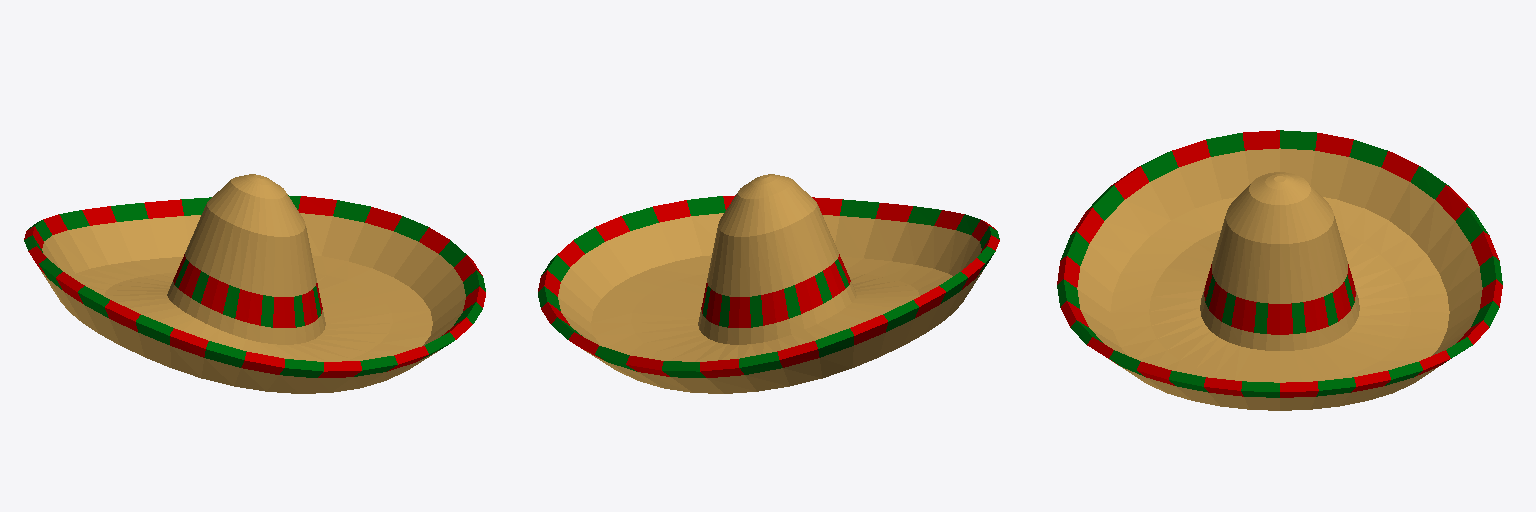
File: lowpolysombrero.obj
The picture shows the model from 3 angles: view 1: azimuth 30°, elevation 25°; view 2: azimuth 150°, elevation 25°; view 3: azimuth 270°, elevation 25°; orthographic projection.
Parts seen in each view (by area): view 1: Disc.1; view 2: Disc.1; view 3: Disc.1.
Boxes of the visible parts, x1,y1,x2,y2 form: Disc.1: [24, 174, 485, 393]; Disc.1: [538, 174, 999, 393]; Disc.1: [1057, 130, 1502, 410].
Bounding box in the file's own units: 265 × 100 × 256.